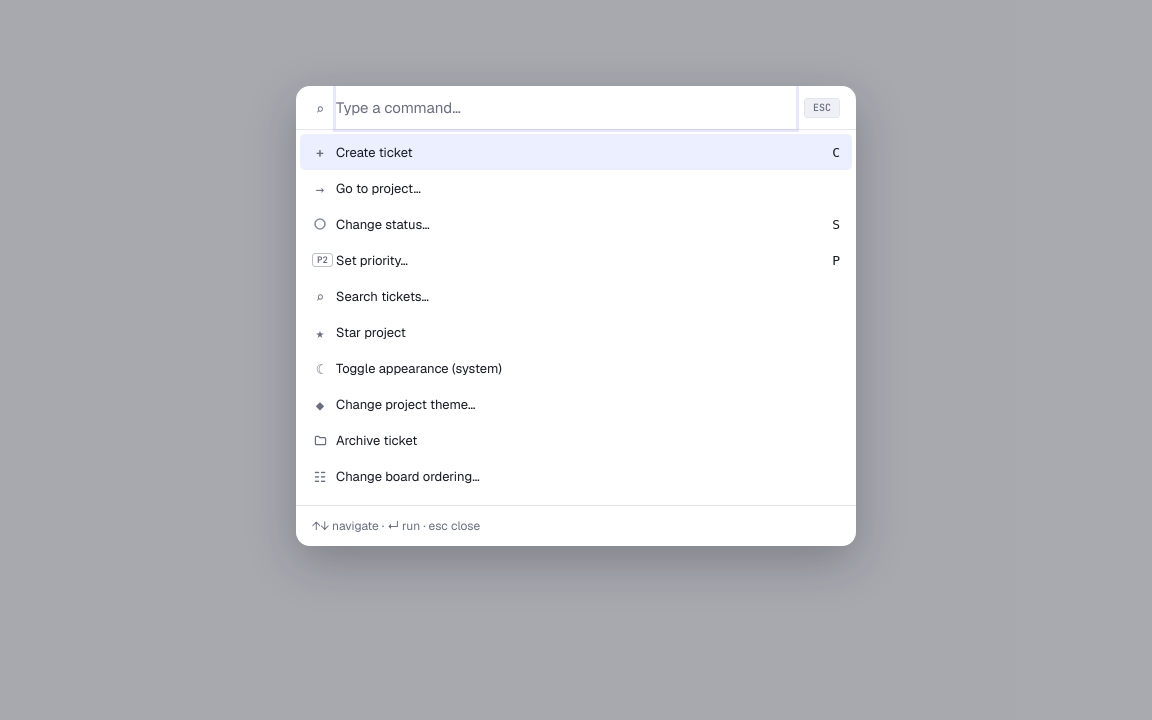
Test: command palette › renders the twelve root commands and status glyphs
The width and height of the screenshot is (1152, 720).
Expected: the option "P2 Set priority… P" is shown, [300,242,852,278]
Click the option "Change status… S" at point(383, 224), box [300,206,852,242]
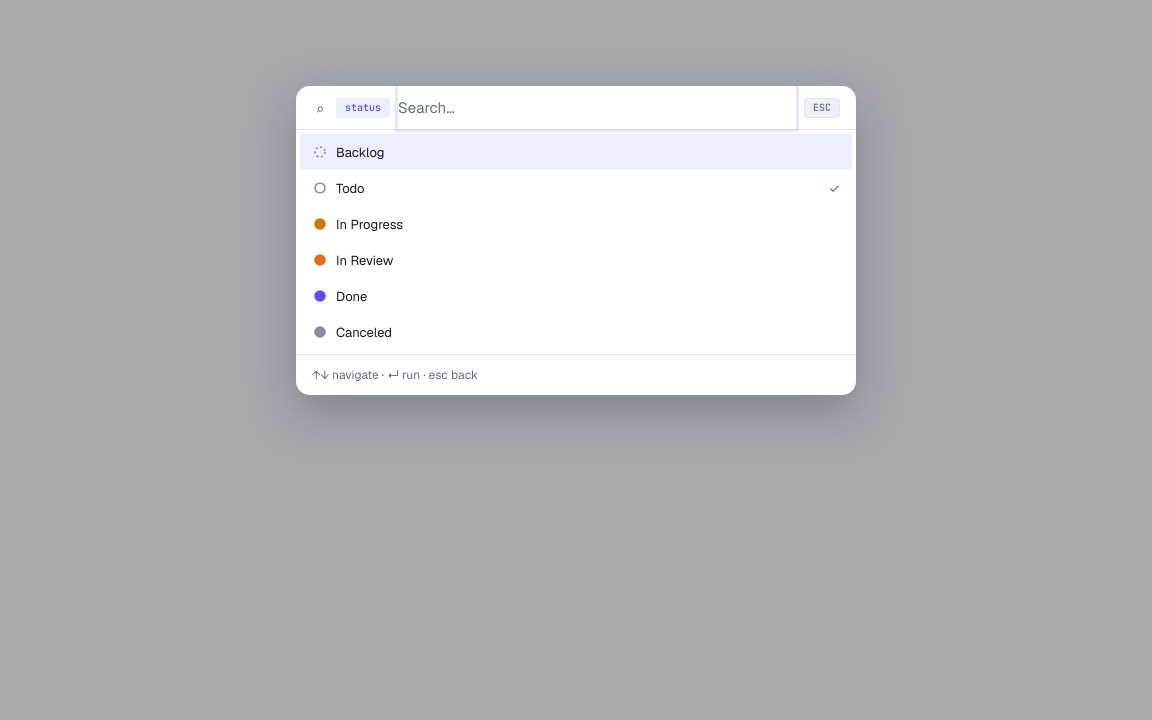
Result: the option "Todo ✓" is shown at [300,170,852,206]
